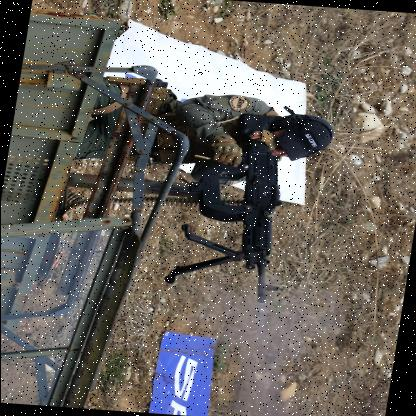rifle: (187, 116, 303, 305)
